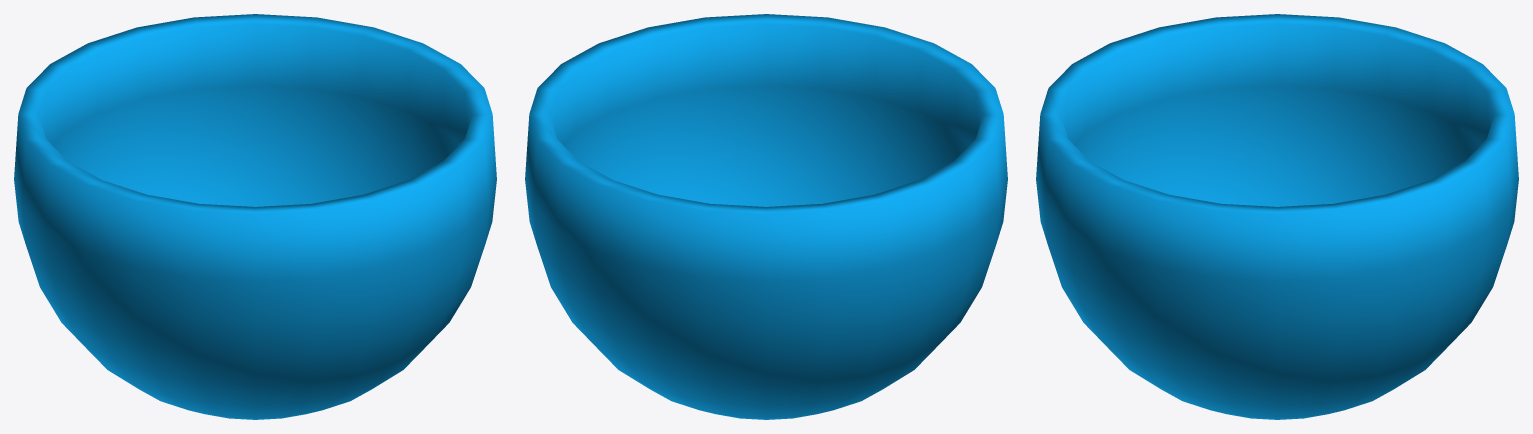
Rendered from SM_Mixer_Pot.fbx.
3 renders of one model, left to right at view 1: azimuth 30°, elevation 25°; view 2: azimuth 150°, elevation 25°; view 3: azimuth 270°, elevation 25°, orthographic.
Visible parts, largest first — view 1: Mixer_Pot; view 2: Mixer_Pot; view 3: Mixer_Pot.
Boxes of the visible parts, x1,y1,x2,y2 form: Mixer_Pot: (14, 14, 496, 419); Mixer_Pot: (525, 14, 1007, 419); Mixer_Pot: (1036, 14, 1518, 419).
Size of the model in its own units: 108 by 66.28 by 108.
